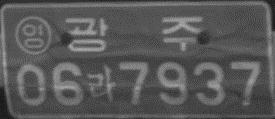0: (15, 62, 46, 107)
3: (192, 60, 226, 107)
6: (51, 61, 84, 106)
7: (118, 60, 149, 106), (230, 60, 260, 107)
9: (156, 61, 188, 106)
광주_D: (64, 16, 204, 52)
라: (86, 64, 116, 103)
영: (14, 15, 52, 56)
